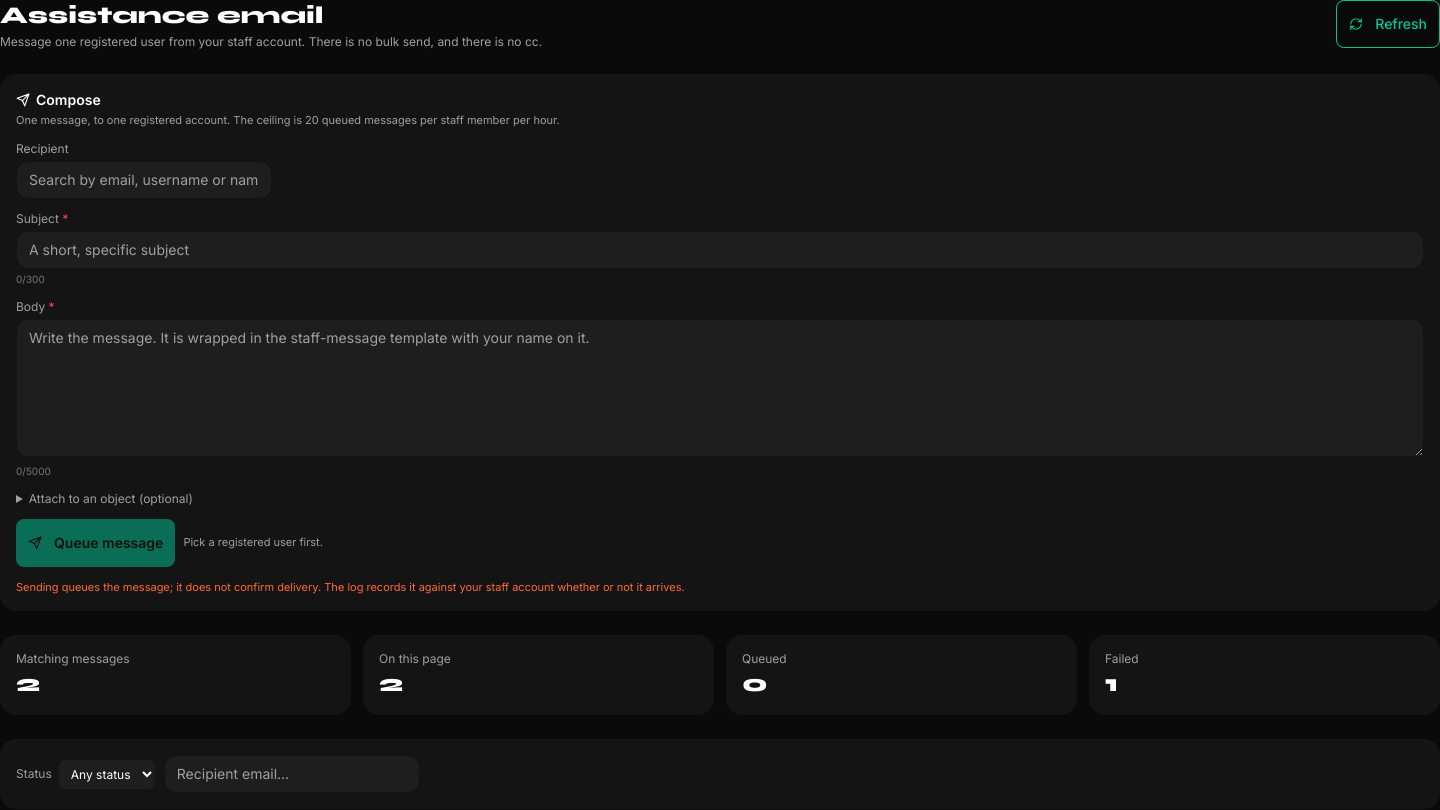
Test: AdminEmail — send › surfaces the API's refusal of an unregistered address
Expected: the field named "Email subject" is shown, [16,230,1424,268]
Step 1. Type "ada" into the field named "Search for the recipient" → (144, 180), box [16,160,272,198]
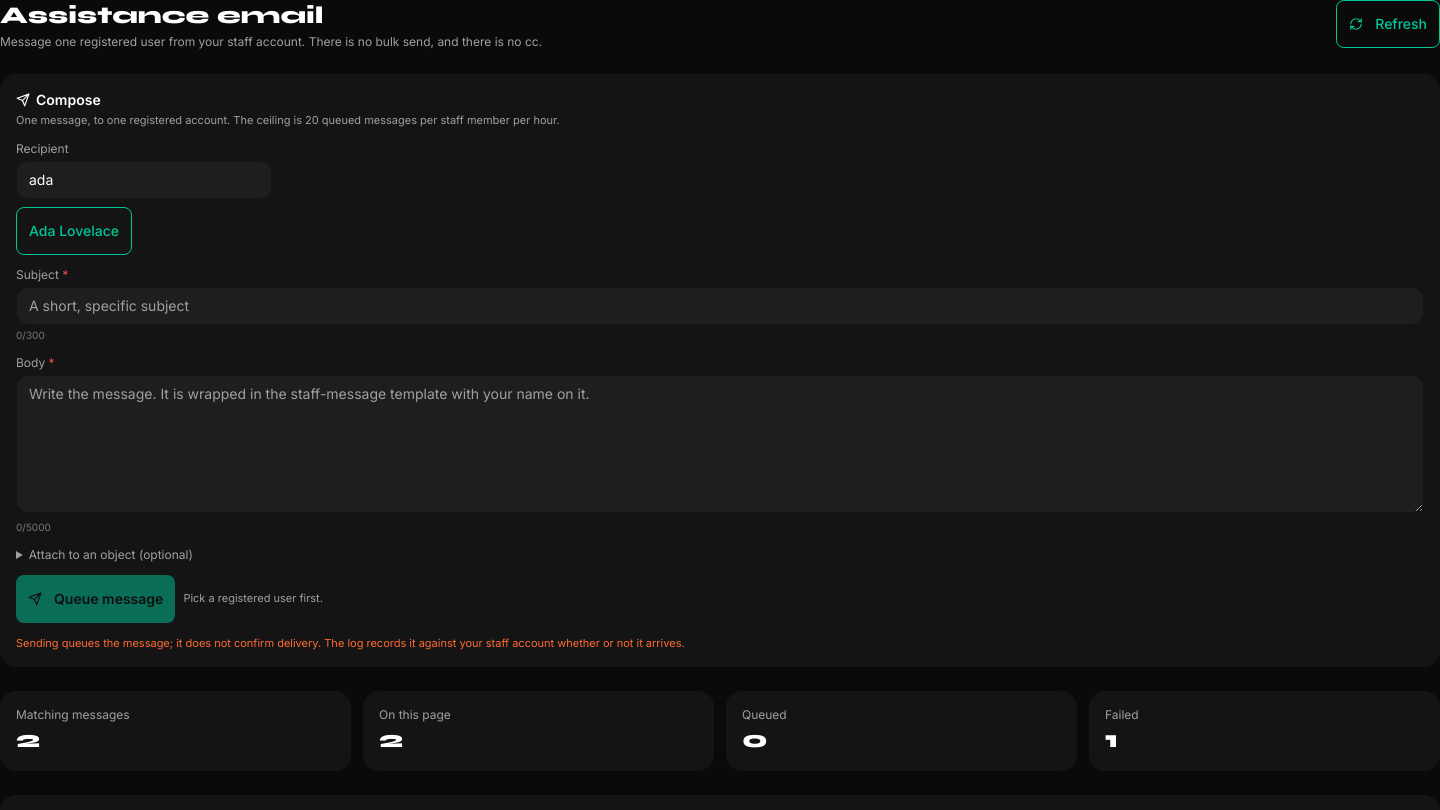
Step 2. Click the button "Ada Lovelace" → (74, 230), box [16,206,132,254]
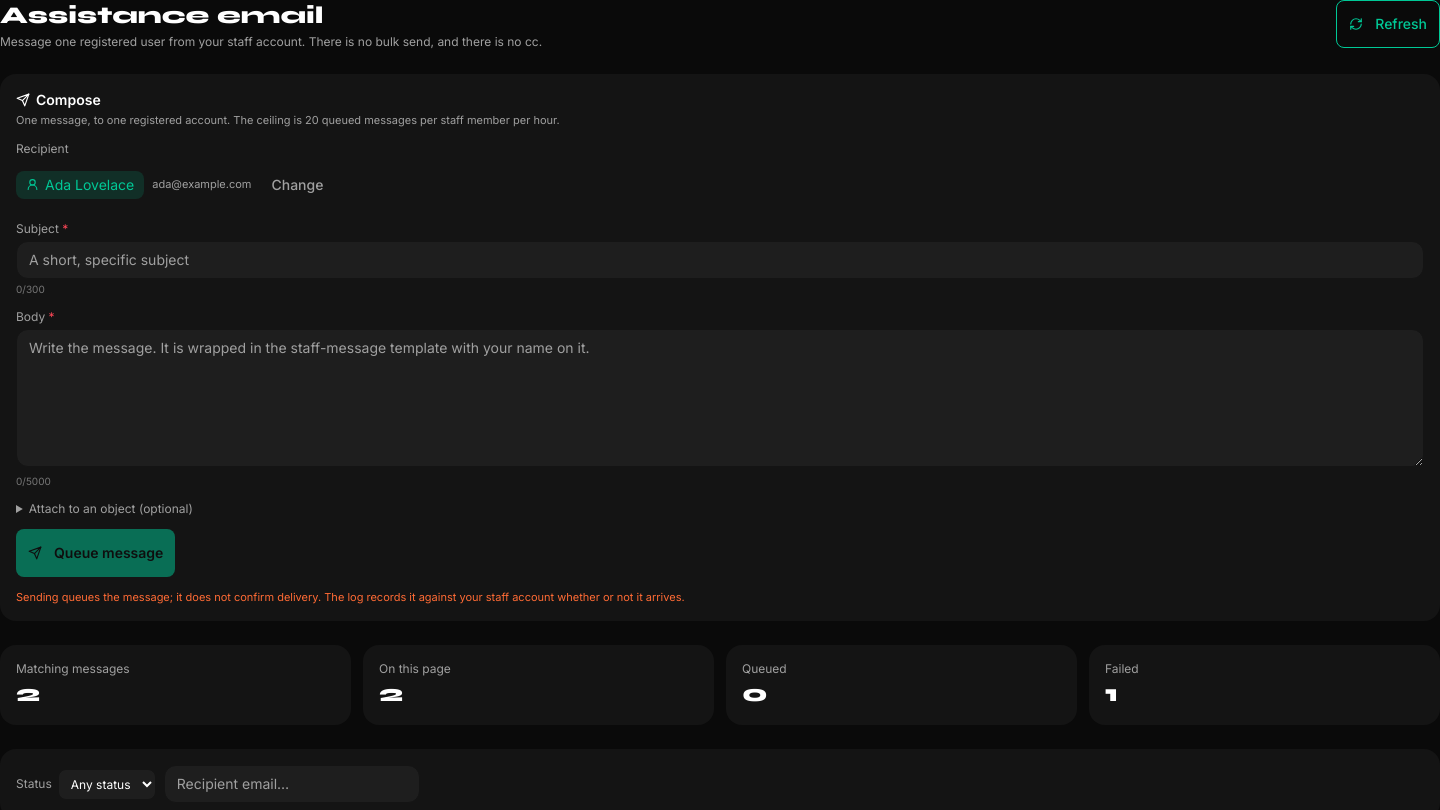
Step 3. Type "Your order has shipped" into the field named "Email subject" → (720, 260), box [16,240,1424,278]
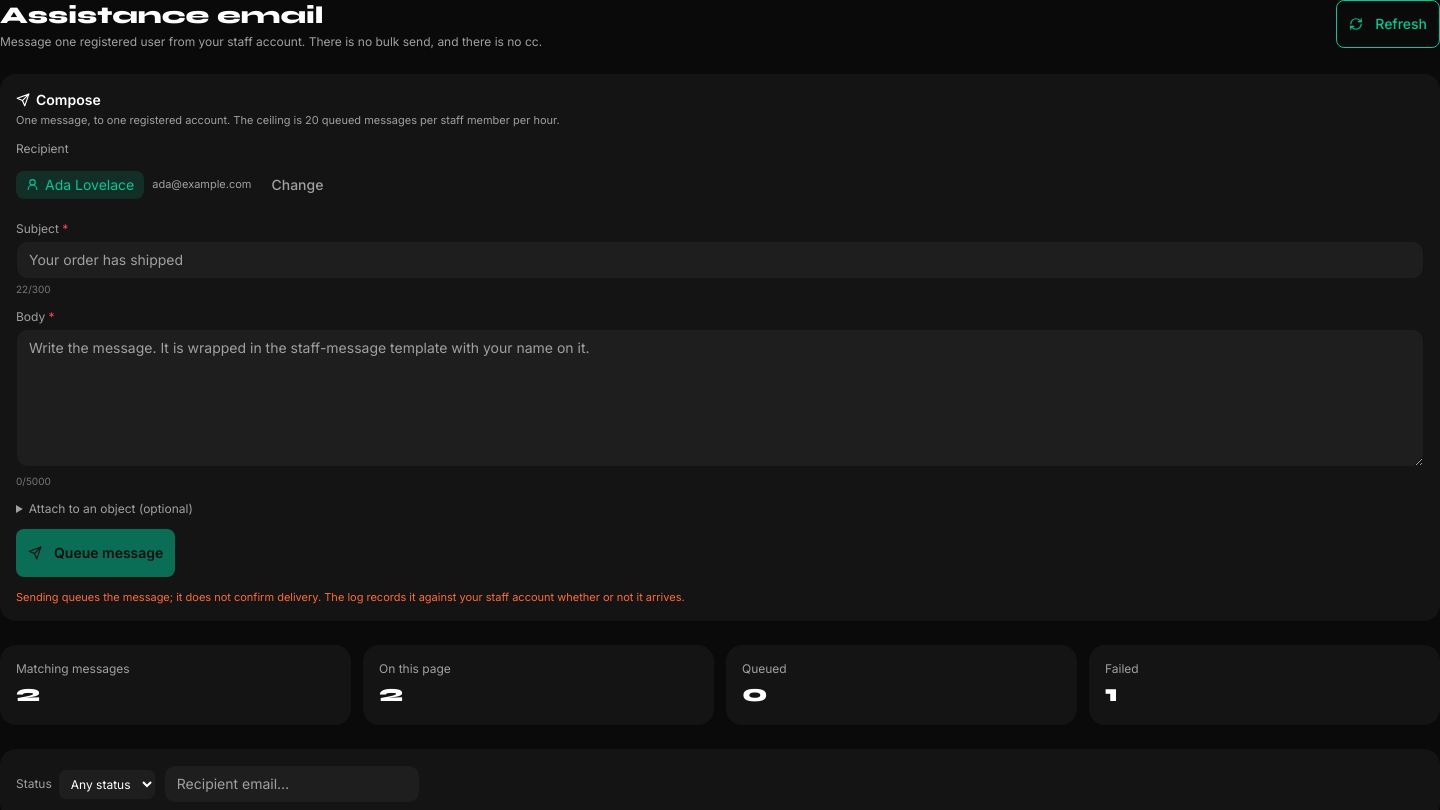
Step 4. Replace the text in the text box named "Email body" with "It left the warehouse." → (720, 398), box [16,328,1424,466]
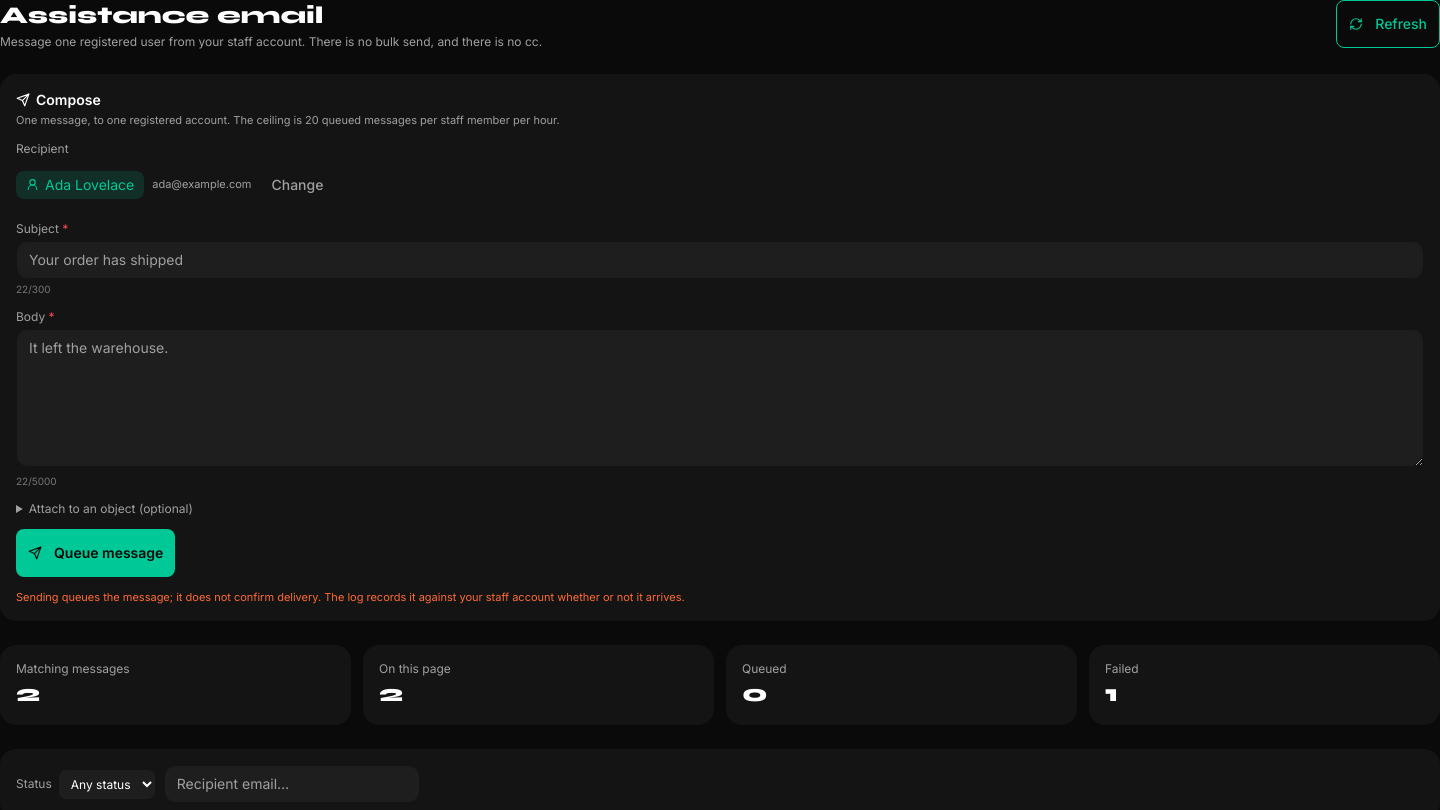
Step 5. Click the button "Queue message" → (96, 552), box [16,528,175,576]
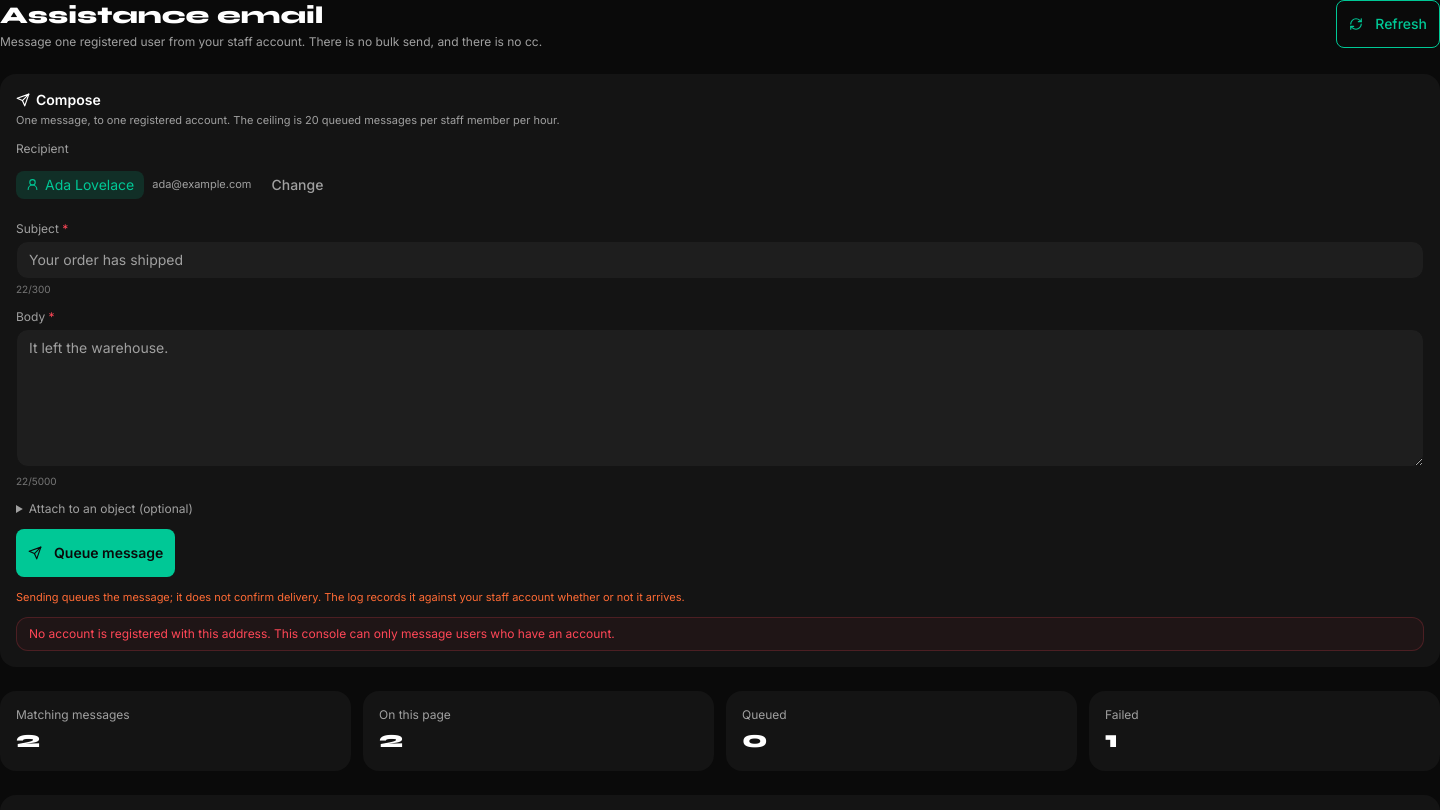
Expected: the text "No account is registered with this address" is shown, [29,626,615,641]
